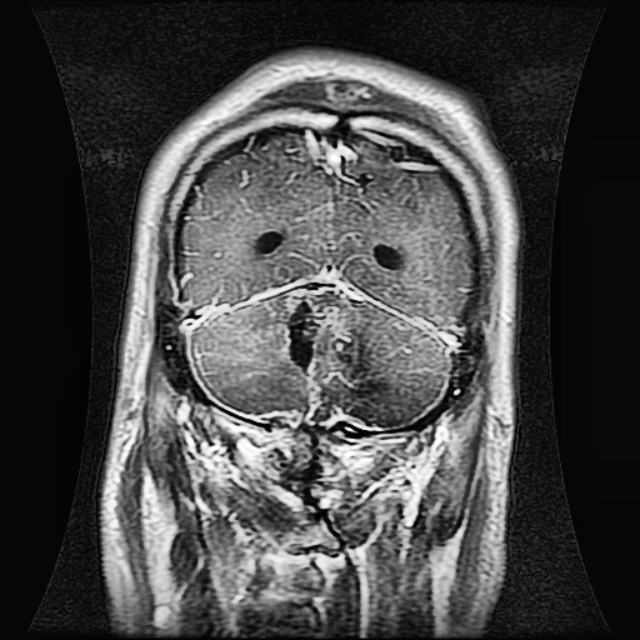Meningioma: (279, 279, 359, 382)
